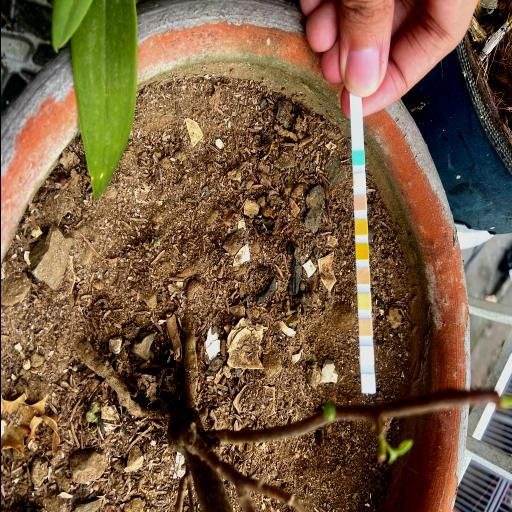Bilirubin: (352, 174, 364, 188)
Blood: (355, 244, 367, 260)
Glucose: (351, 151, 363, 165)
Ketone: (353, 195, 365, 211)
Leukocytes: (361, 374, 373, 392)
Nitrite: (360, 346, 372, 363)
Protein: (357, 294, 369, 310)
SpGravity: (354, 219, 366, 235)
Urobilinogen: (358, 318, 370, 336)
pH: (356, 268, 368, 284)
strip: (349, 103, 375, 393)
